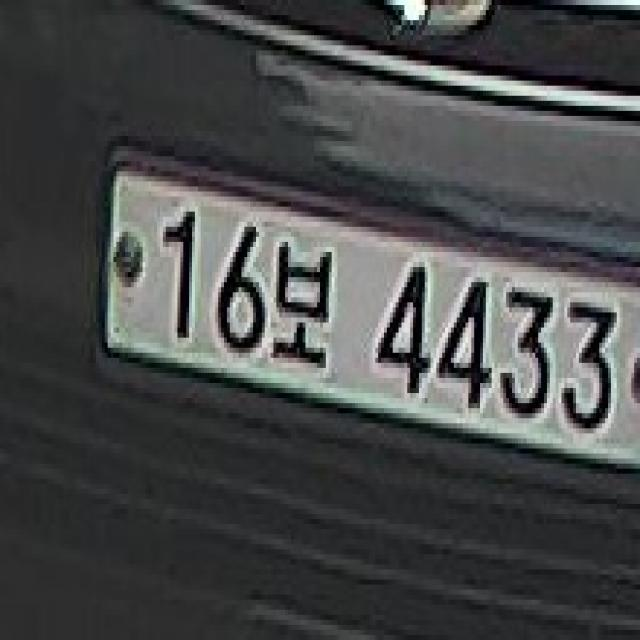1: (154, 202, 207, 352)
3: (498, 272, 556, 434), (558, 292, 620, 438)
4: (369, 247, 436, 413), (439, 262, 495, 423)
6: (212, 212, 270, 373)
bo: (274, 232, 338, 388)
license_plate: (93, 141, 640, 509)
